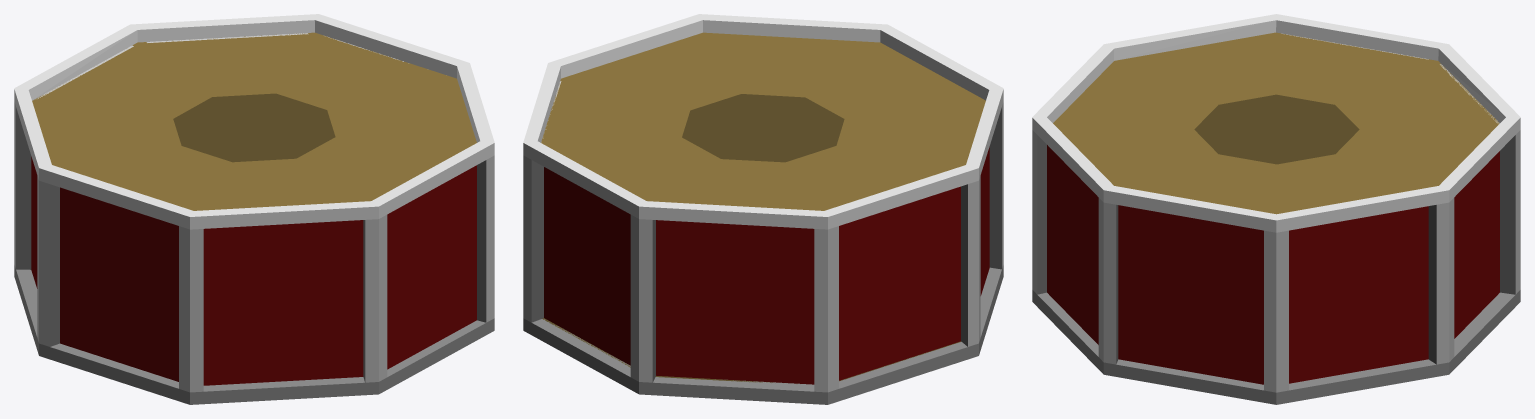
The model's file is snare drum.fbx.
3 views of the same model, side by side, from view 1: azimuth 30°, elevation 25°; view 2: azimuth 150°, elevation 25°; view 3: azimuth 270°, elevation 25° (orthographic).
Parts seen in each view (by area): view 1: Cylinder001; view 2: Cylinder001; view 3: Cylinder001.
Boxes of the visible parts, x1=… form: Cylinder001: x1=14, y1=14, x2=494, y2=404; Cylinder001: x1=523, y1=14, x2=1003, y2=404; Cylinder001: x1=1032, y1=14, x2=1520, y2=404.
Bounding box in the file's own units: 36 × 15 × 36.
